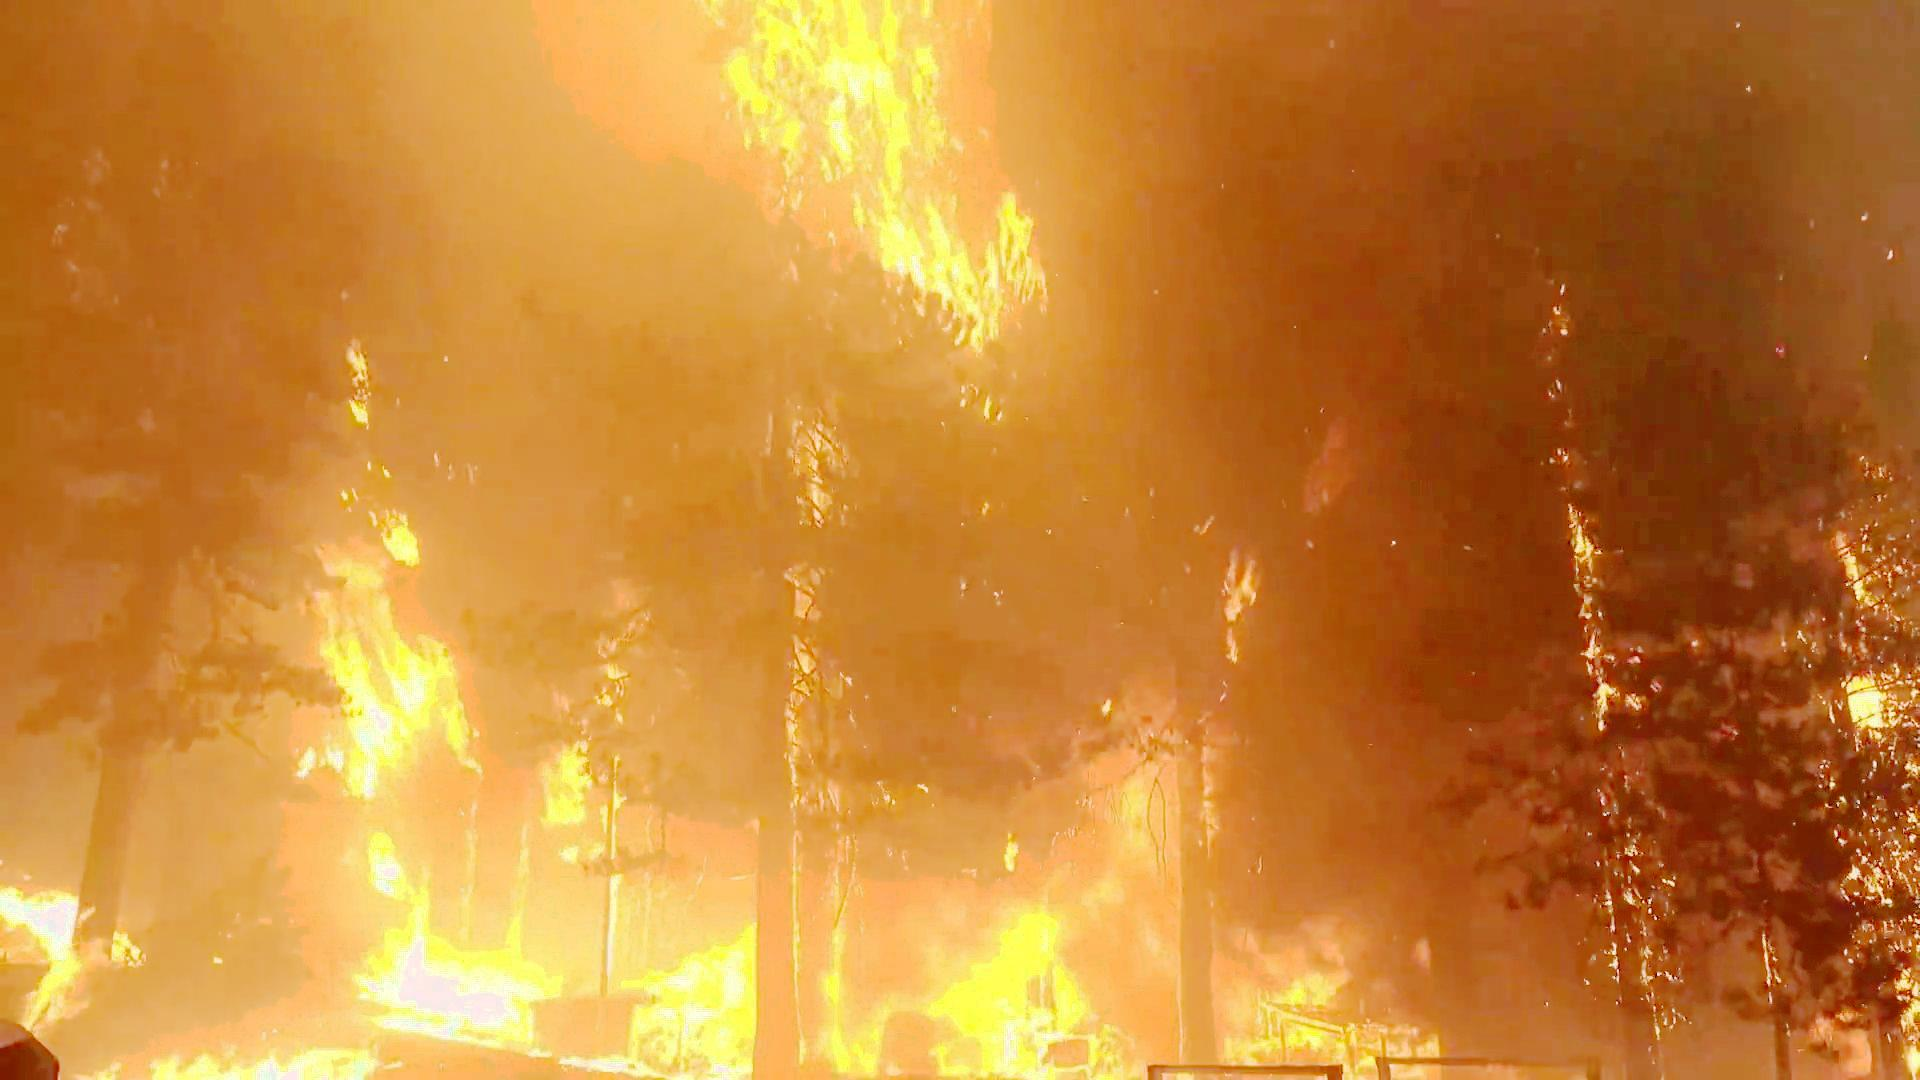fire: (276, 393, 562, 1036), (603, 848, 1135, 1080), (711, 0, 1062, 323)
